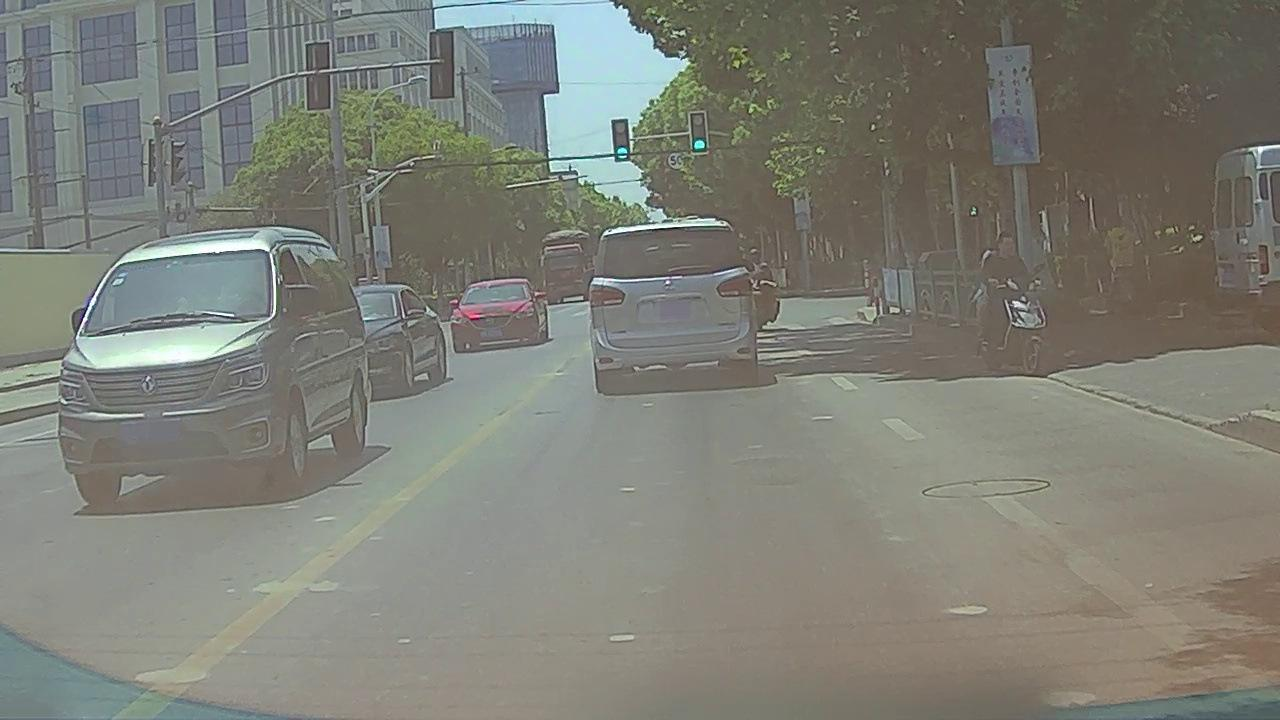traffic_light: (691, 113, 708, 153), (613, 120, 628, 161)
